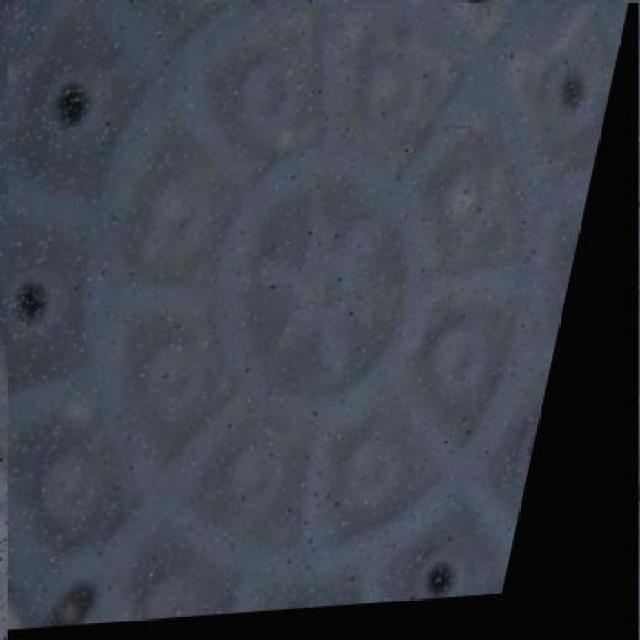Manhole: (7, 3, 638, 640)
